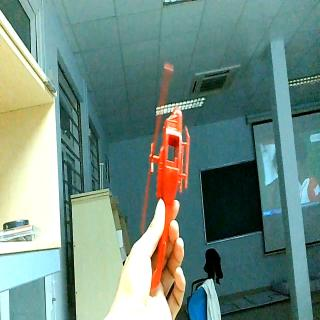Helicopter: (148, 62, 190, 298)
